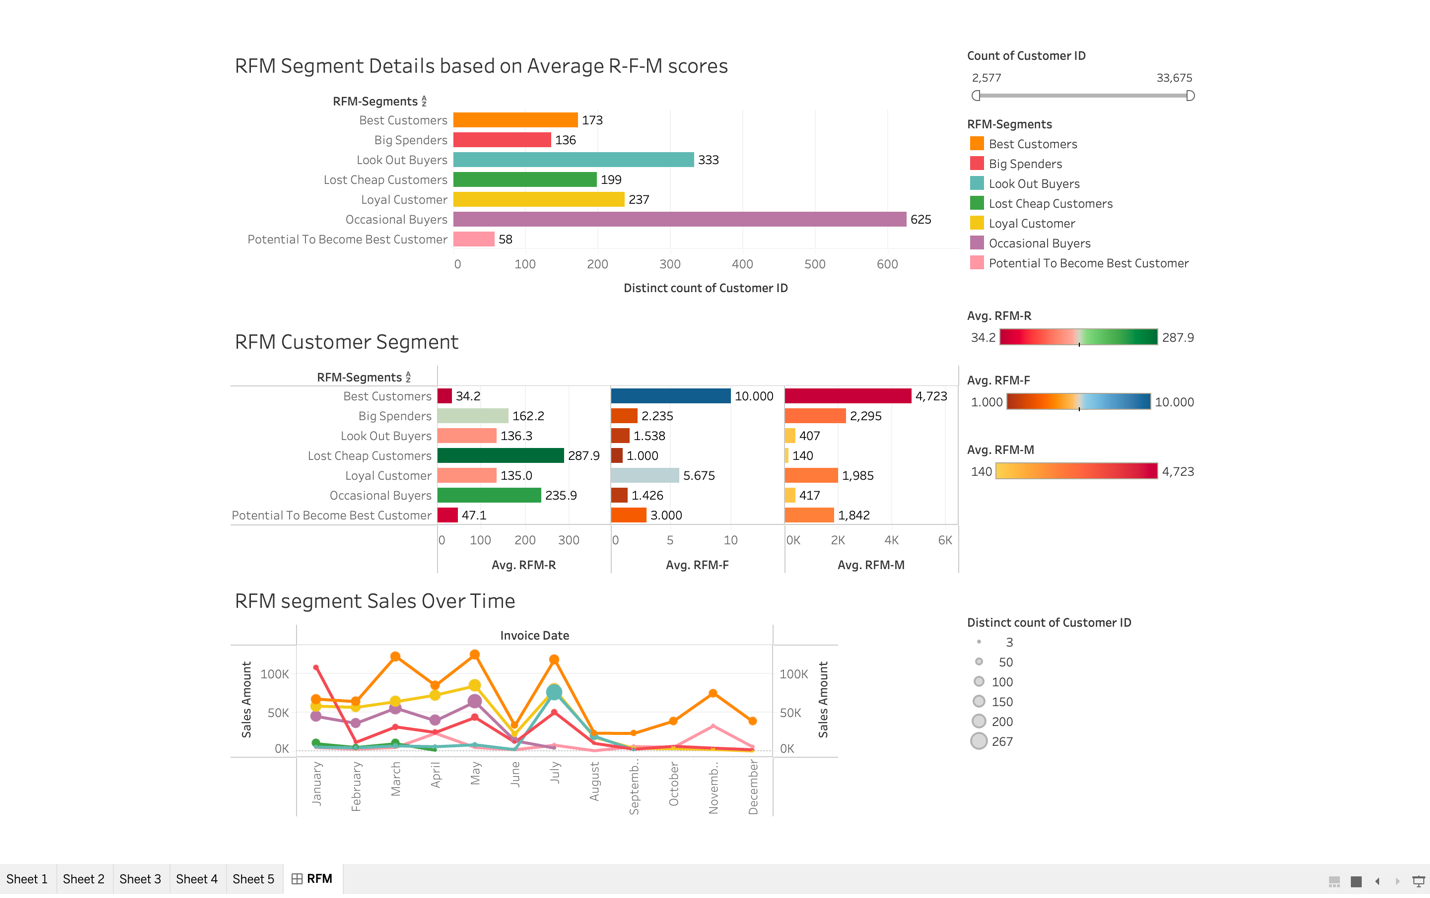

What the dashboard file says about the page in this screenshot:
{"tool":"tableau","page":{"name":"RFM Dashboard","canvas":[1000,800],"ordinal":0},"visuals":[{"type":"worksheet","title":"RFM Customer Segment","mark":"Automatic","rows":["Calculation_3691614705275715591"],"cols":["Customer ID"],"box":[8,8,742,278]},{"type":"filter","title":"RFM Customer Segment","param":"[federated.09d0hqo17eb40y1e4cf5g1g5dnbc].[cnt:Customer ID:qk]","box":[750,8,242,69]},{"type":"legend","title":"RFM Customer Segment","param":"[federated.09d0hqo17eb40y1e4cf5g1g5dnbc].[none:Calculation_3691614705275715591:n","box":[750,77,242,193]},{"type":"legend","title":"RFM Segment Based on Average R-F-M Scores","param":"[federated.09d0hqo17eb40y1e4cf5g1g5dnbc].[avg:Calculation_3691614705273556992:qk","box":[750,270,242,65]},{"type":"worksheet","title":"RFM Segment Based on Average R-F-M Scores","mark":"Automatic","rows":["Calculation_3691614705275715591"],"cols":["Calculation_3691614705273556992","Calculation_3691614705273729025","Calculation_3691614705274200066"],"box":[8,286,742,261]},{"type":"legend","title":"RFM Segment Based on Average R-F-M Scores","param":"[federated.09d0hqo17eb40y1e4cf5g1g5dnbc].[avg:Calculation_3691614705273729025:qk","box":[750,335,242,70]},{"type":"legend","title":"RFM Segment Based on Average R-F-M Scores","param":"[federated.09d0hqo17eb40y1e4cf5g1g5dnbc].[avg:Calculation_3691614705274200066:qk","box":[750,405,242,65]},{"type":"worksheet","title":"RFM Segment Sales Over Time","mark":"Automatic","rows":["Sales Amount","Sales Amount"],"cols":["Invoice Date"],"box":[8,547,742,245]},{"type":"legend","title":"RFM Segment Sales Over Time","param":"[federated.09d0hqo17eb40y1e4cf5g1g5dnbc].[ctd:Customer ID:qk]","box":[754,583,242,217]}]}

Visuals, with their boxes on the page's 1000x800 design canvas (x1, y1, x2, y2). These are canvas units, not pixel positions in the 1430x898 screenshot, which may show the page scaled, cropped or inside an application window:
"RFM Customer Segment" worksheet: bbox(8, 8, 750, 286)
"RFM Customer Segment" filter: bbox(750, 8, 992, 77)
"RFM Customer Segment" legend: bbox(750, 77, 992, 270)
"RFM Segment Based on Average R-F-M Scores" legend: bbox(750, 270, 992, 335)
"RFM Segment Based on Average R-F-M Scores" worksheet: bbox(8, 286, 750, 547)
"RFM Segment Based on Average R-F-M Scores" legend: bbox(750, 335, 992, 405)
"RFM Segment Based on Average R-F-M Scores" legend: bbox(750, 405, 992, 470)
"RFM Segment Sales Over Time" worksheet: bbox(8, 547, 750, 792)
"RFM Segment Sales Over Time" legend: bbox(754, 583, 996, 800)
